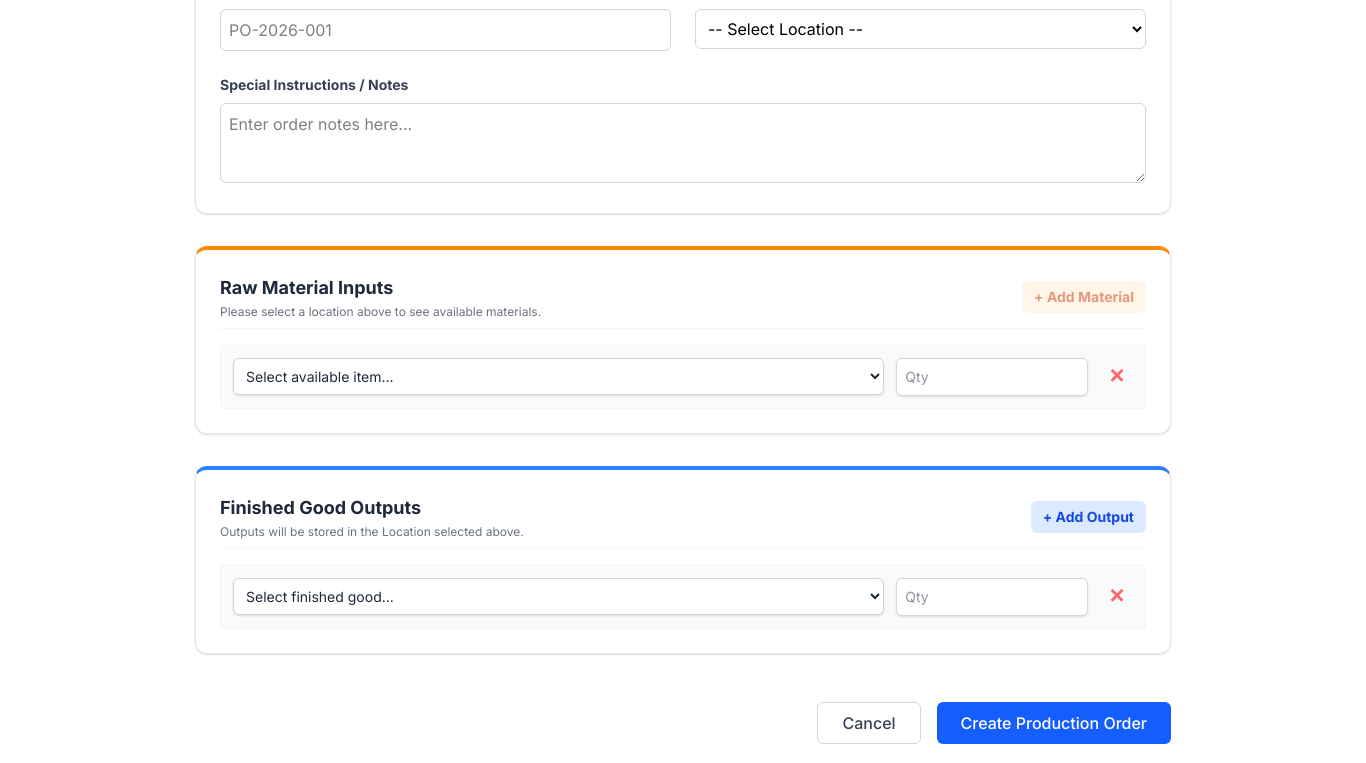
Scenario: NewOrder — Zod validation › shows validation error when order number is empty on submit
The image size is (1366, 763).
(page scrolled)
Click the button "Create Production Order" at (1054, 723), box [937, 702, 1171, 744]
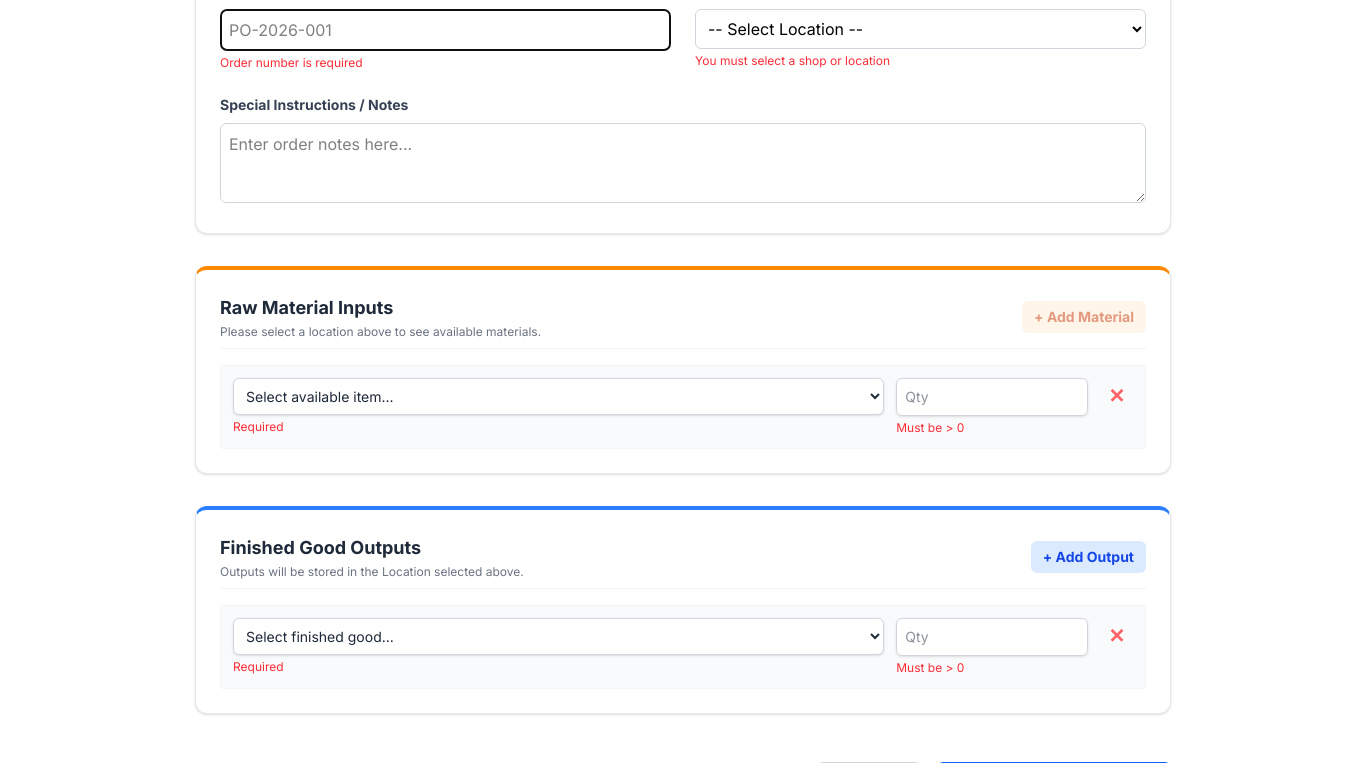
Check: the text "Order number is required" is shown, box [220, 55, 363, 70]
